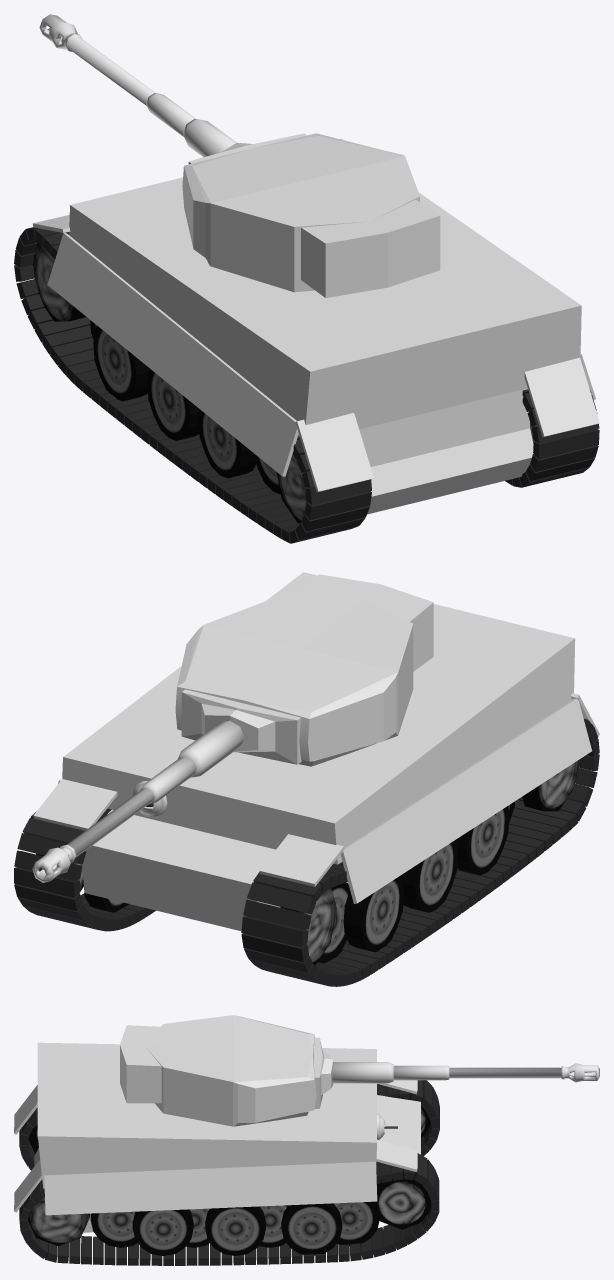
File: Tigger.fbx
The picture shows the model from 3 angles, top to bottom: view 1: azimuth 30°, elevation 25°; view 2: azimuth 150°, elevation 25°; view 3: azimuth 270°, elevation 25°; orthographic projection. The views are drawn at different scales.
Parts seen in each view (by area): view 1: Cube, 큐브.009, 큐브.008, 큐브.006, 큐브.007, 큐브.001, 큐브.010; view 2: Cube, 큐브.009, 큐브.008, 큐브.010, 큐브.001, 큐브.005, 큐브.004; view 3: Cube, 큐브.009, 큐브.003, 큐브.001, 큐브.010, 큐브.004, 큐브.007, 큐브.006, 큐브.005.
Boxes of the visible parts, x1,y1,x2,y2 form: Cube: (14, 138, 599, 543); 큐브.009: (182, 133, 440, 297); 큐브.008: (47, 233, 298, 476); 큐브.006: (295, 413, 373, 492); 큐브.007: (524, 357, 599, 436); 큐브.001: (39, 14, 196, 136); 큐브.010: (183, 119, 306, 164); Cube: (14, 572, 599, 986); 큐브.009: (175, 574, 433, 766); 큐브.008: (340, 698, 592, 903); 큐브.010: (178, 689, 301, 777); 큐브.001: (32, 756, 196, 882); 큐브.005: (259, 834, 344, 886); 큐브.004: (33, 779, 117, 830); Cube: (19, 1042, 439, 1265); 큐브.009: (120, 1015, 316, 1126); 큐브.003: (44, 1161, 377, 1215); 큐브.001: (393, 1063, 599, 1082); 큐브.010: (314, 1037, 393, 1108); 큐브.004: (375, 1139, 417, 1171); 큐브.007: (14, 1159, 42, 1212); 큐브.006: (14, 1085, 37, 1134); 큐브.005: (377, 1062, 417, 1094).
Bounding box in the file's own units: 1278 × 951 × 2926.
